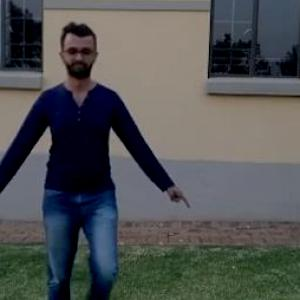land: (1, 42, 167, 299)
